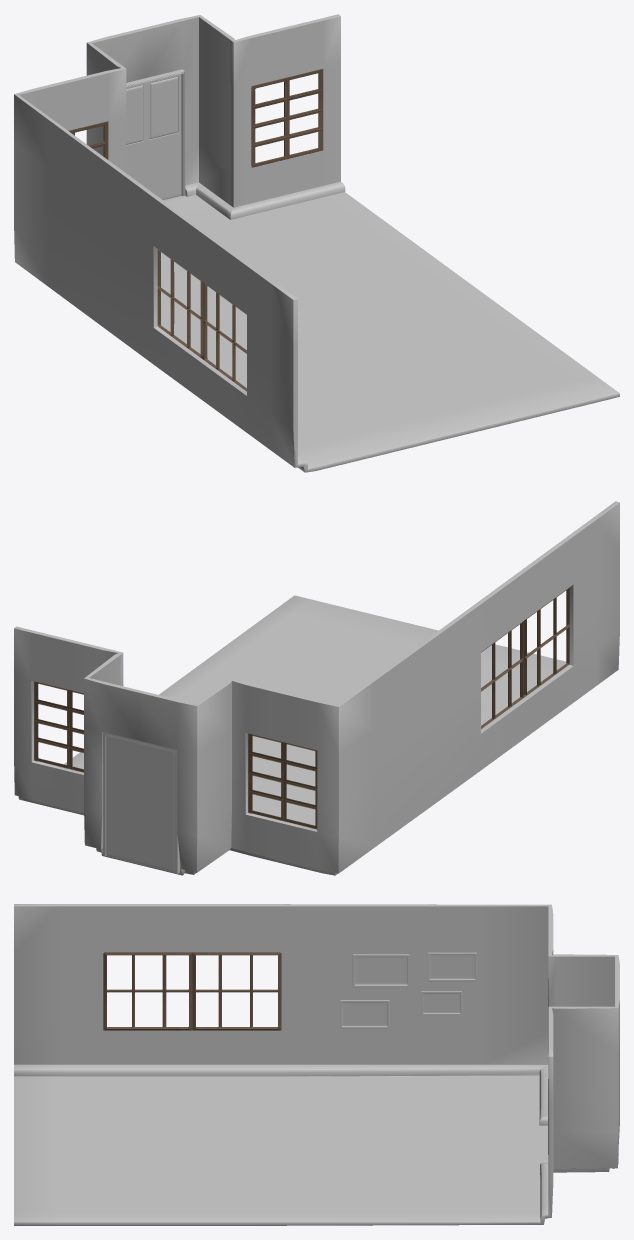
Rendered from Casa (8).fbx.
The picture shows the model from 3 angles, top to bottom: view 1: azimuth 30°, elevation 25°; view 2: azimuth 150°, elevation 25°; view 3: azimuth 270°, elevation 25°; orthographic projection. The views are drawn at different scales.
Visible parts, largest first — view 1: Chão, Parede, Porta, Janelas, Rodapé; view 2: Chão, Parede, Porta, Janelas; view 3: Parede, Chão, Rodapé, Quadros, Janelas.
Part boxes in pixels (left/top/right/bottom): Chão: left=14, top=17, right=619, bottom=472; Parede: left=14, top=14, right=340, bottom=472; Porta: left=126, top=69, right=185, bottom=199; Janelas: left=69, top=69, right=322, bottom=391; Rodapé: left=185, top=182, right=345, bottom=464; Chão: left=14, top=502, right=619, bottom=875; Parede: left=14, top=501, right=619, bottom=875; Porta: left=103, top=732, right=179, bottom=873; Janelas: left=34, top=588, right=569, bottom=829; Parede: left=14, top=904, right=619, bottom=1224; Chão: left=14, top=949, right=618, bottom=1225; Rodapé: left=14, top=1065, right=548, bottom=1217; Quadros: left=340, top=952, right=476, bottom=1028; Janelas: left=103, top=952, right=548, bottom=1154.
Size of the model in its own units: 2028 by 1048 by 3402.
